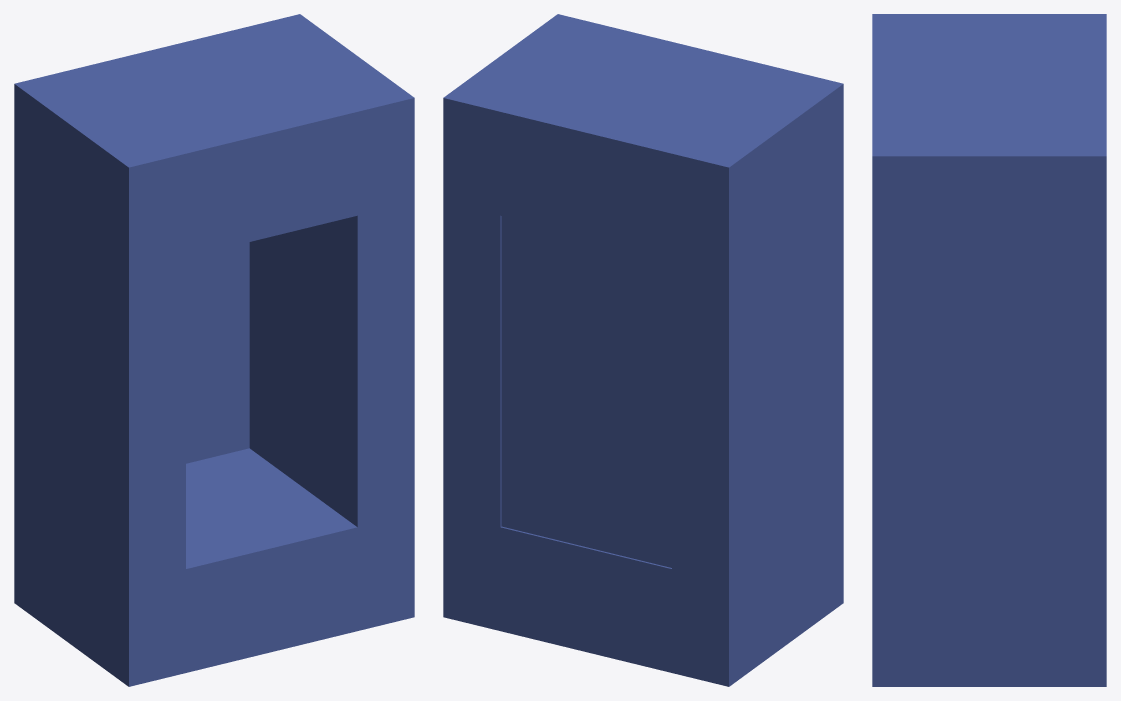
The model's file is fridge.fbx.
3 renders of one model, left to right at view 1: azimuth 30°, elevation 25°; view 2: azimuth 150°, elevation 25°; view 3: azimuth 270°, elevation 25°, orthographic. The views are drawn at different scales.
Parts seen in each view (by area): view 1: mergedBlocks; view 2: mergedBlocks; view 3: mergedBlocks.
Boxes of the visible parts, x1,y1,x2,y2 form: mergedBlocks: (14, 14, 414, 686); mergedBlocks: (443, 14, 843, 686); mergedBlocks: (872, 14, 1106, 686).
Bounding box in the file's own units: 5.76 × 10 × 4.
